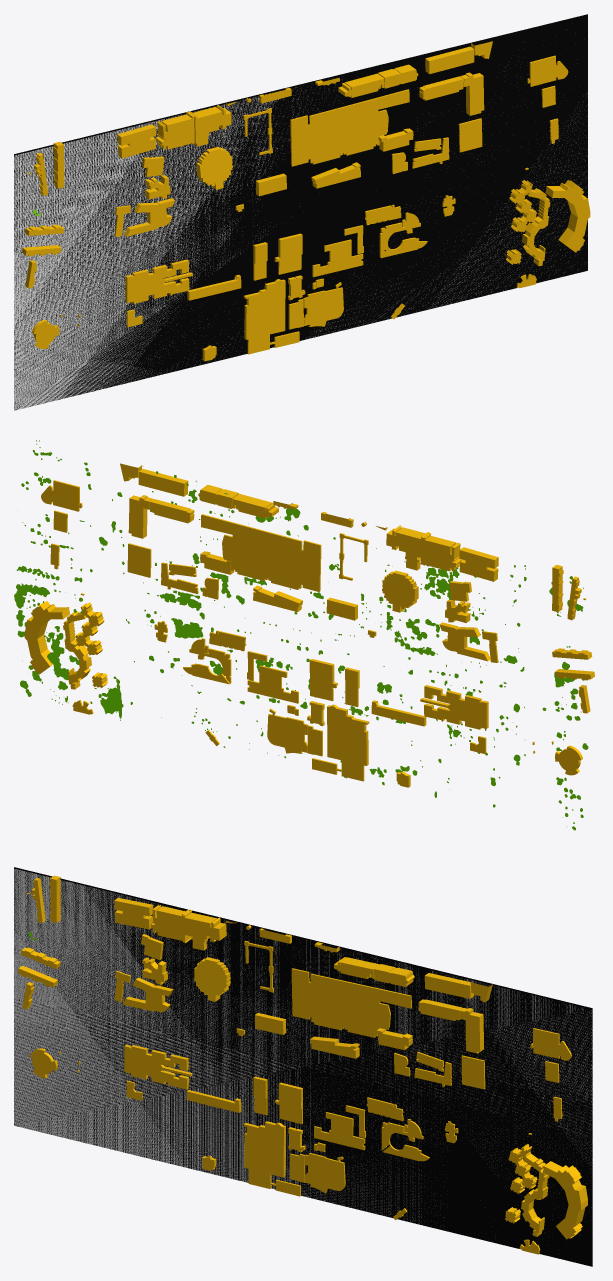
The model's file is existing_trees_04.glb.
3 renders of one model, top to bottom at view 1: azimuth 30°, elevation 25°; view 2: azimuth 150°, elevation 25°; view 3: azimuth 330°, elevation 25°, orthographic.
Visible parts, largest first — view 1: Layer 04, existing_building - Copy, base; view 2: existing_building - Copy, treesurface; view 3: Layer 04, base, existing_building - Copy.
Boxes of the visible parts, <box> form: Layer 04: <box>14,14,587,409</box>; existing_building - Copy: <box>22,41,590,361</box>; base: <box>14,79,587,410</box>; existing_building - Copy: <box>24,463,594,787</box>; treesurface: <box>14,440,588,830</box>; Layer 04: <box>14,867,592,1266</box>; base: <box>14,869,592,1223</box>; existing_building - Copy: <box>18,875,587,1254</box>.
Bounding box in the file's own units: 1006 × 431 × 20.85.
